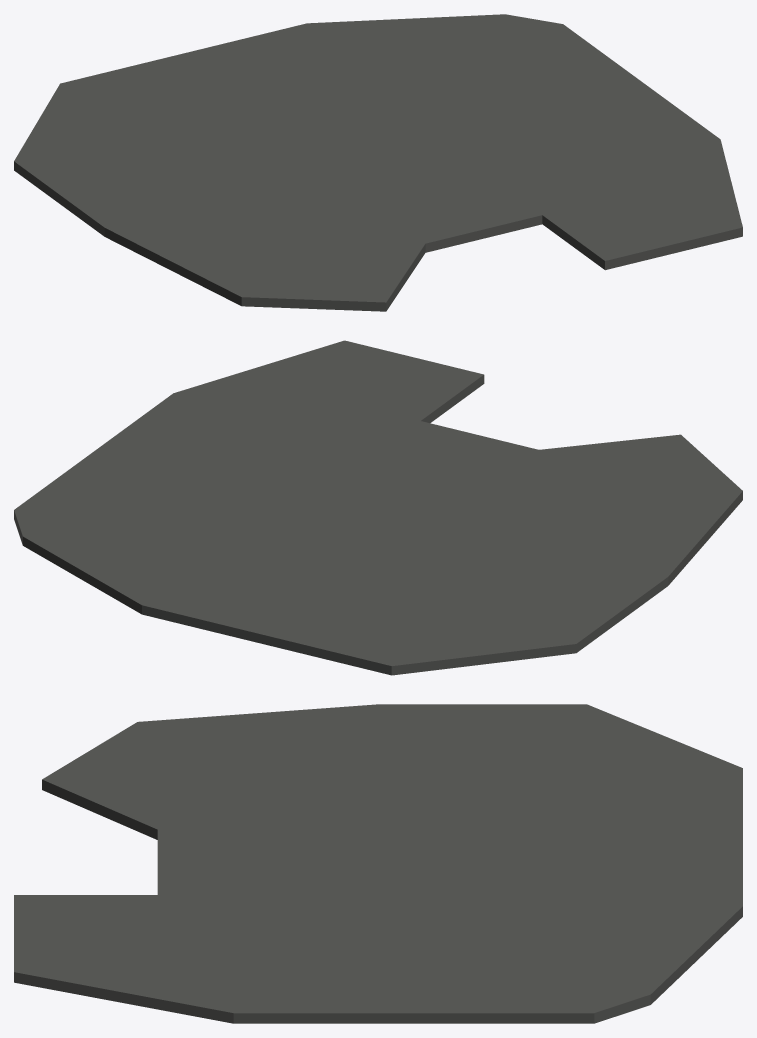
The model's file is DD_Ground02.fbx.
The picture shows the model from 3 angles, top to bottom: view 1: azimuth 30°, elevation 25°; view 2: azimuth 150°, elevation 25°; view 3: azimuth 270°, elevation 25°; orthographic projection. The views are drawn at different scales.
Parts seen in each view (by area): view 1: DD_Ground02; view 2: DD_Ground02; view 3: DD_Ground02.
Boxes of the visible parts, bbox=[...] form: DD_Ground02: bbox=[14, 14, 742, 311]; DD_Ground02: bbox=[14, 340, 742, 675]; DD_Ground02: bbox=[14, 704, 742, 1023].
Size of the model in its own units: 943 by 15 by 941.
Materials: 1 (1 with a texture image).
